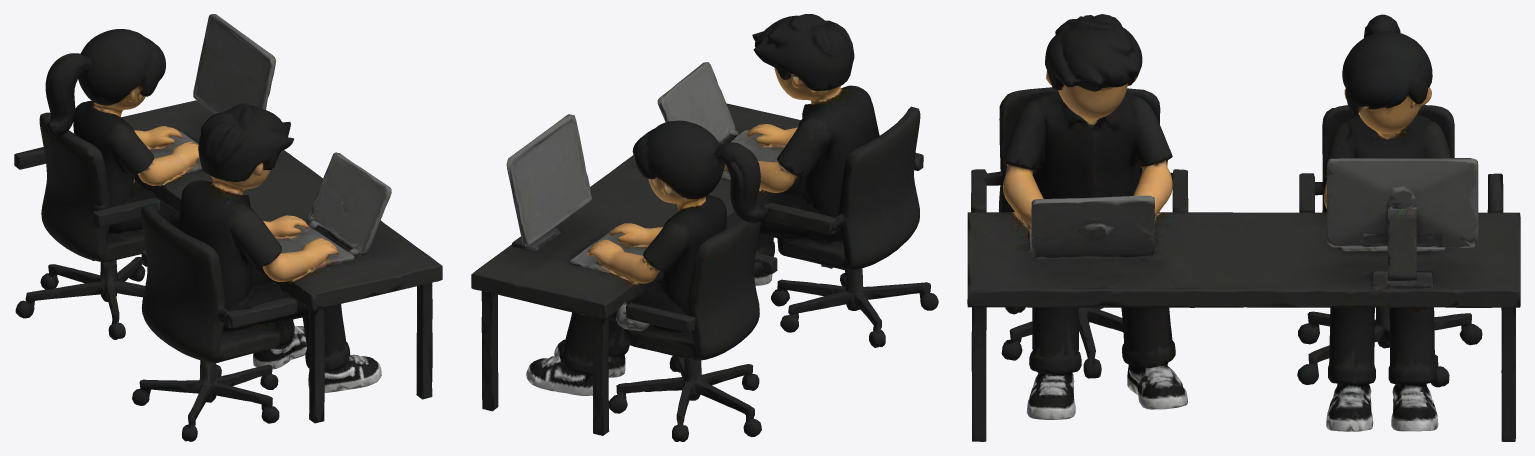
File: editores.glb
3 renders of one model, left to right at view 1: azimuth 30°, elevation 25°; view 2: azimuth 150°, elevation 25°; view 3: azimuth 270°, elevation 25°, orthographic. The views are drawn at different scales.
Parts seen in each view (by area): view 1: tripo_node_663c8282-30f5-4217-86be-db292a1aab04; view 2: tripo_node_663c8282-30f5-4217-86be-db292a1aab04; view 3: tripo_node_663c8282-30f5-4217-86be-db292a1aab04.
Boxes of the visible parts, <box> form: tripo_node_663c8282-30f5-4217-86be-db292a1aab04: <box>14,14,442,441</box>; tripo_node_663c8282-30f5-4217-86be-db292a1aab04: <box>471,14,938,441</box>; tripo_node_663c8282-30f5-4217-86be-db292a1aab04: <box>967,14,1520,441</box>.
Size of the model in its own units: 0.6029 by 0.6853 by 1.
1 material, 1 textured.
